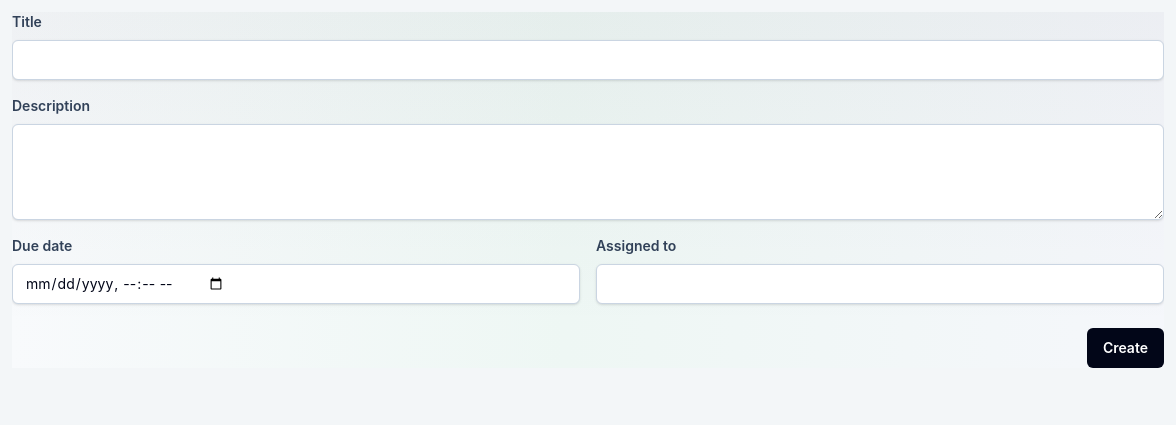
Test: TaskForm › shows a validation error when title is missing
Click the button "Create" at (1125, 348), box top-left (1087, 328), bottom-right (1164, 368)
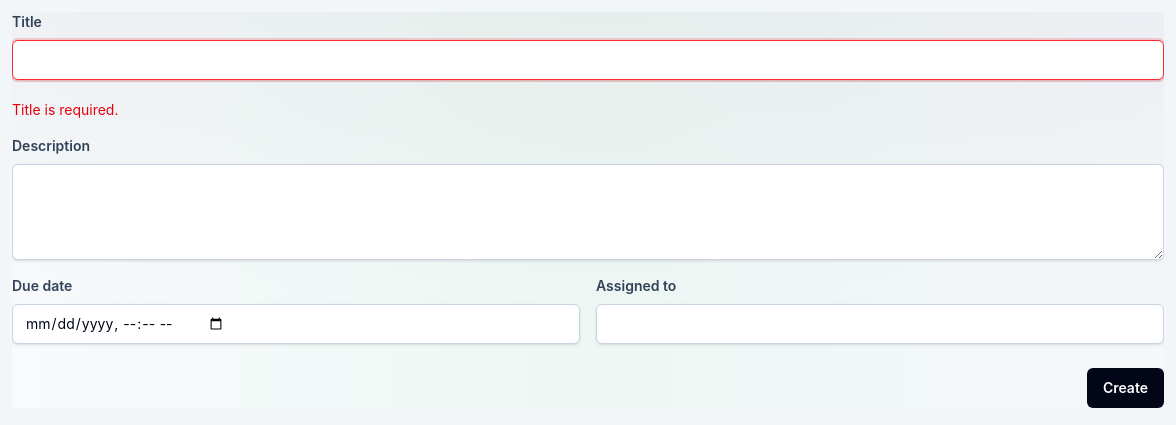
Now the text "Title is required." is shown, box top-left (12, 101), bottom-right (118, 118)
